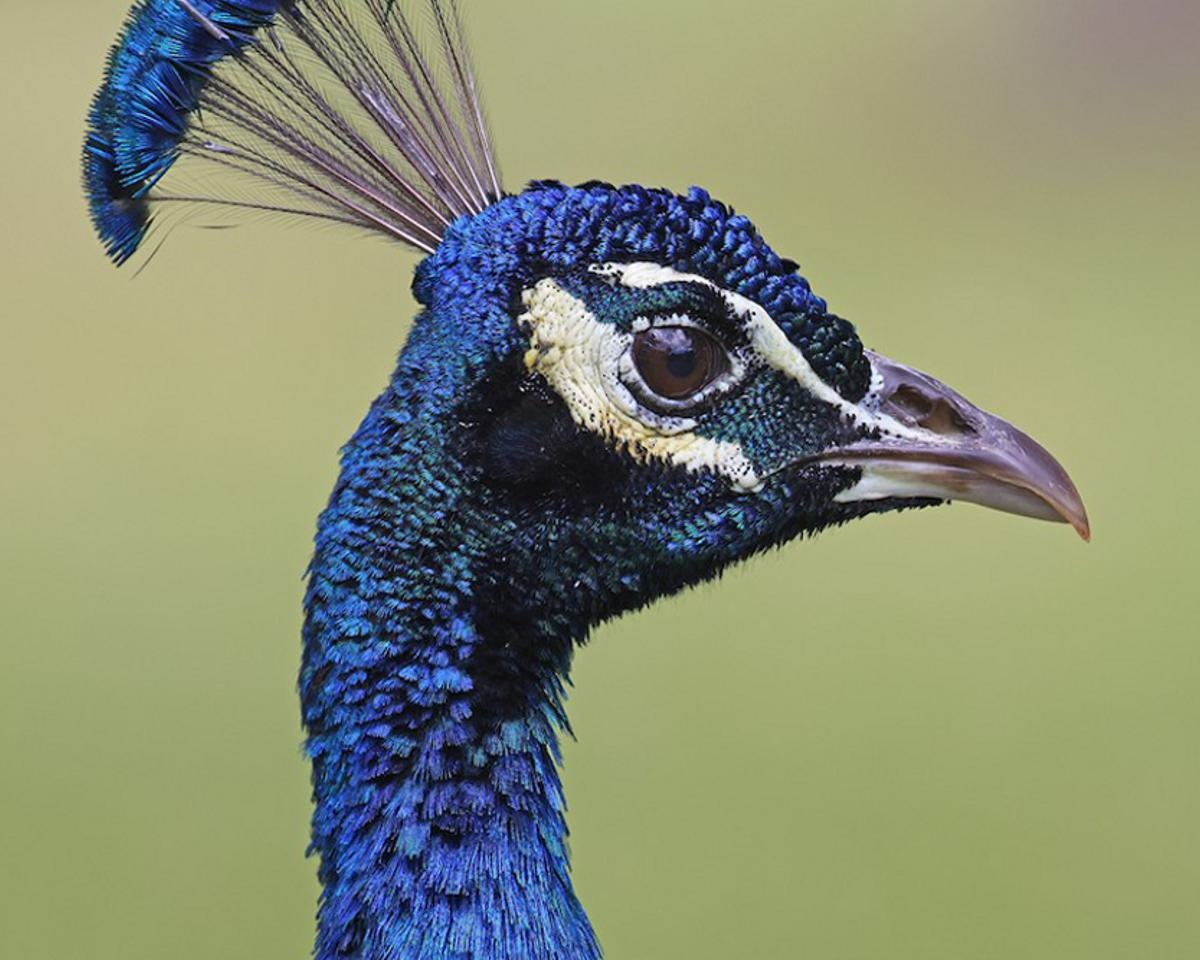peacock: (1, 95, 1066, 960)
